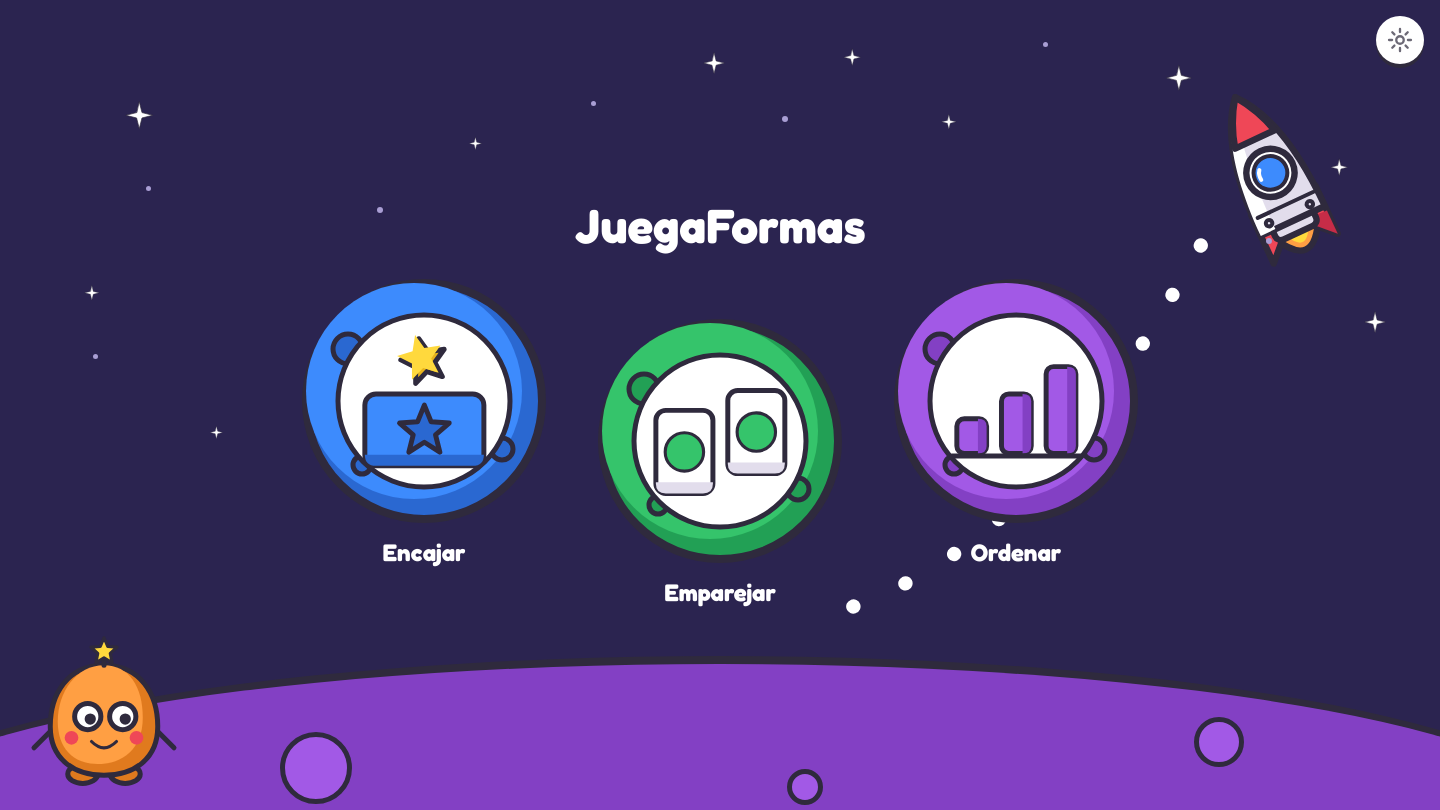
Scenario: decir que no deja el progreso donde estaba
Press the mouse on the button named "Ajustes. Mantén pulsado para abrir" at [1400, 40], box [1376, 16, 1424, 64]
Wait 800 ms
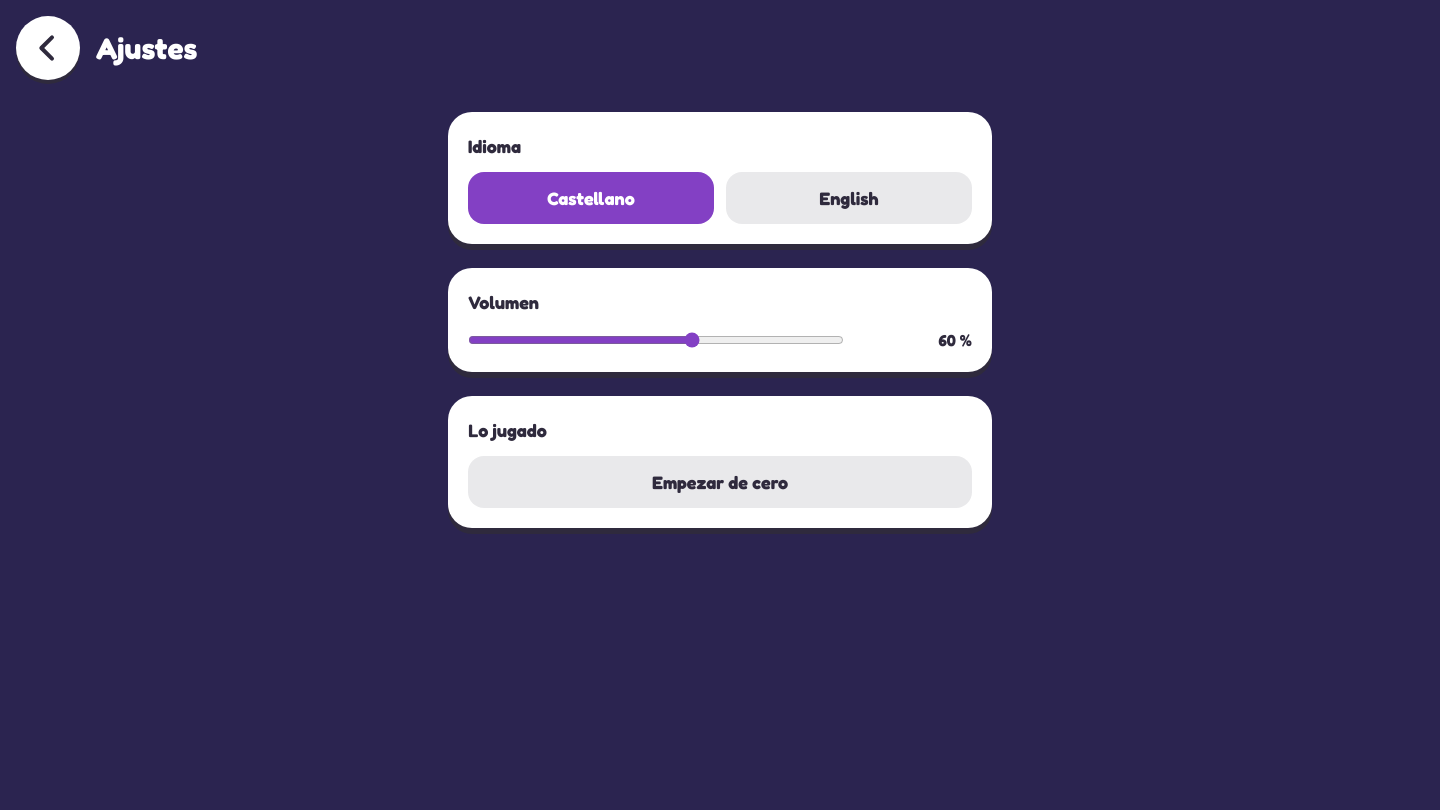
Click the button "Empezar de cero". click: [720, 482]
box: [468, 456, 972, 508]
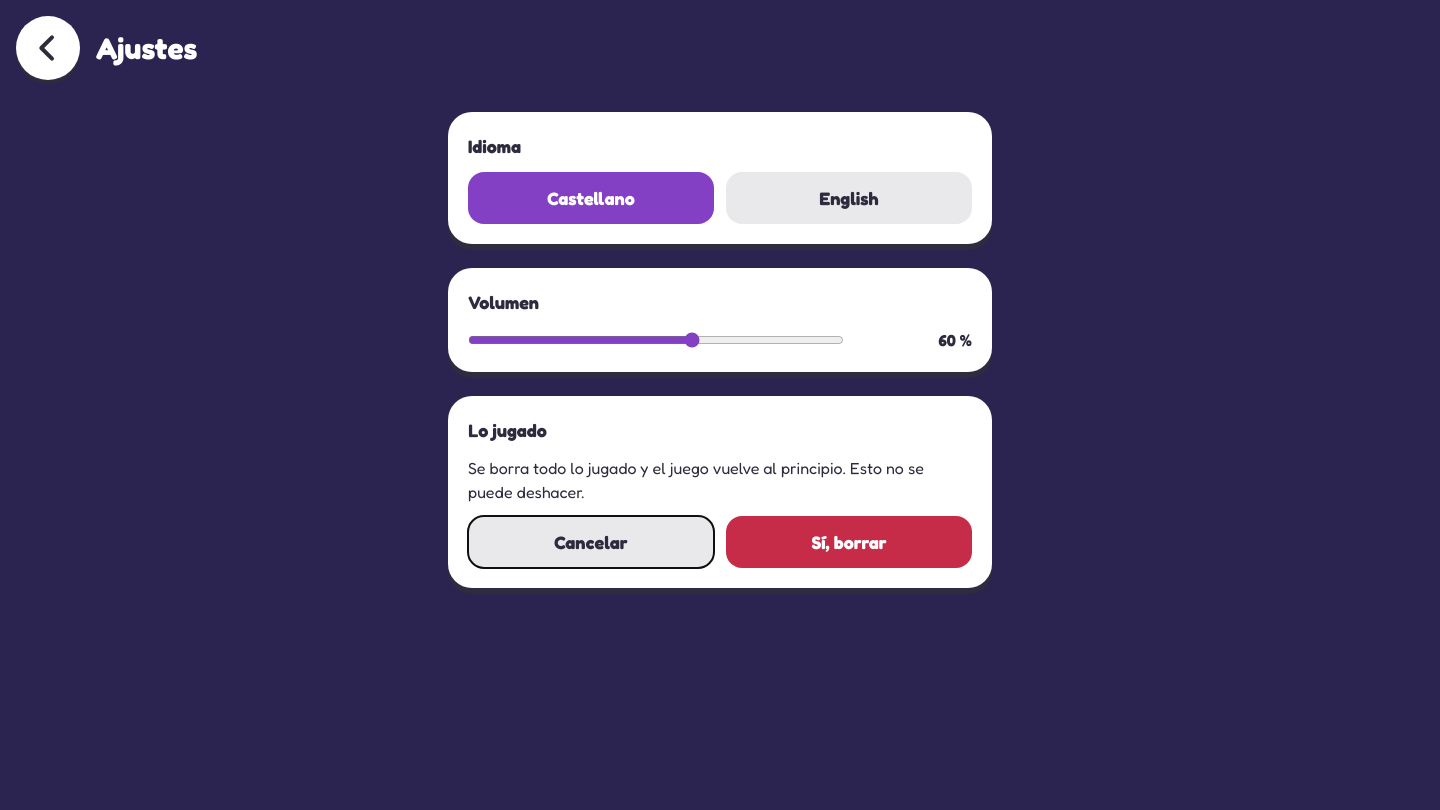
Click the button "Cancelar". click: [591, 542]
box: [468, 516, 714, 568]
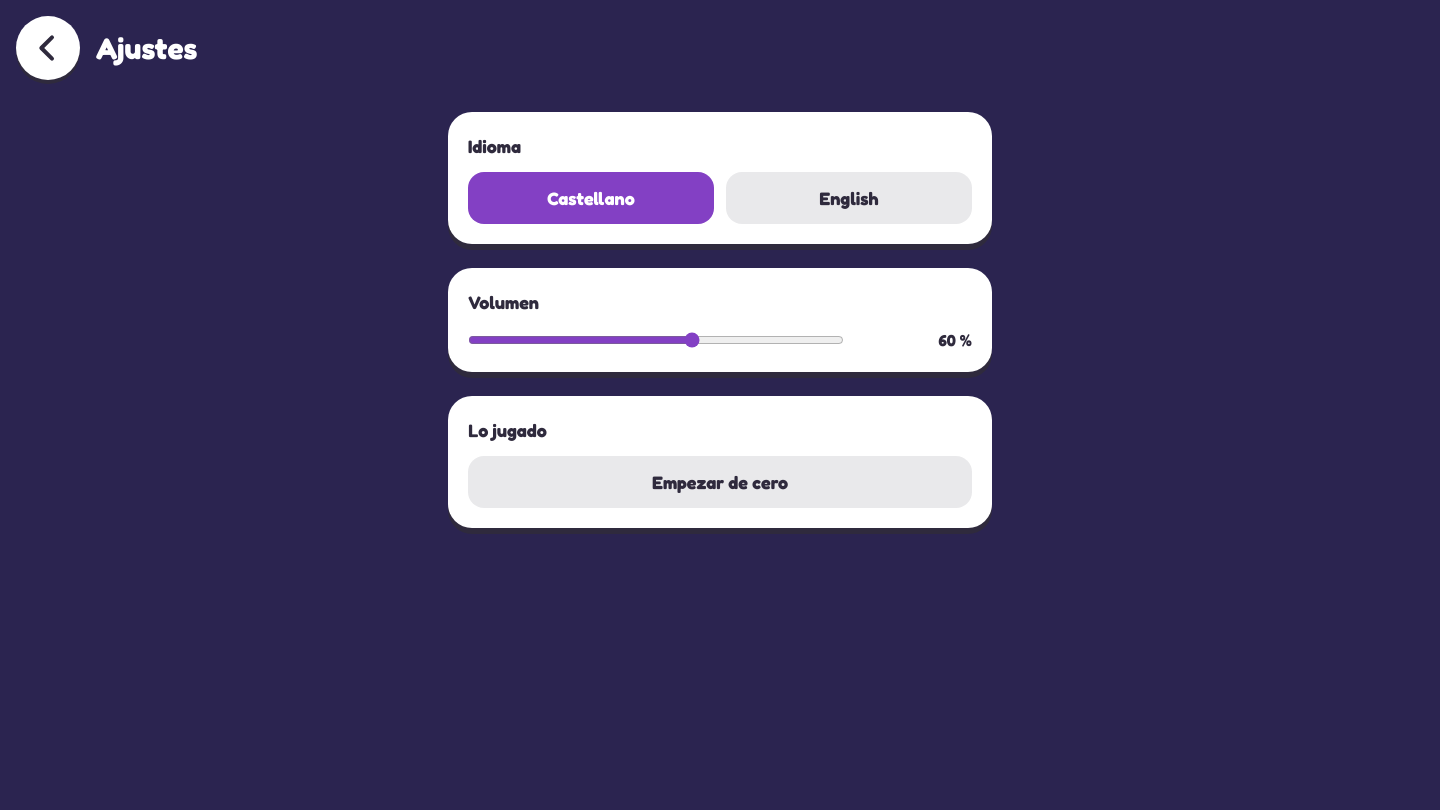
Now the text "Se borra todo lo jugado y el juego vuelve al principio. Esto no se puede deshacer." is gone
